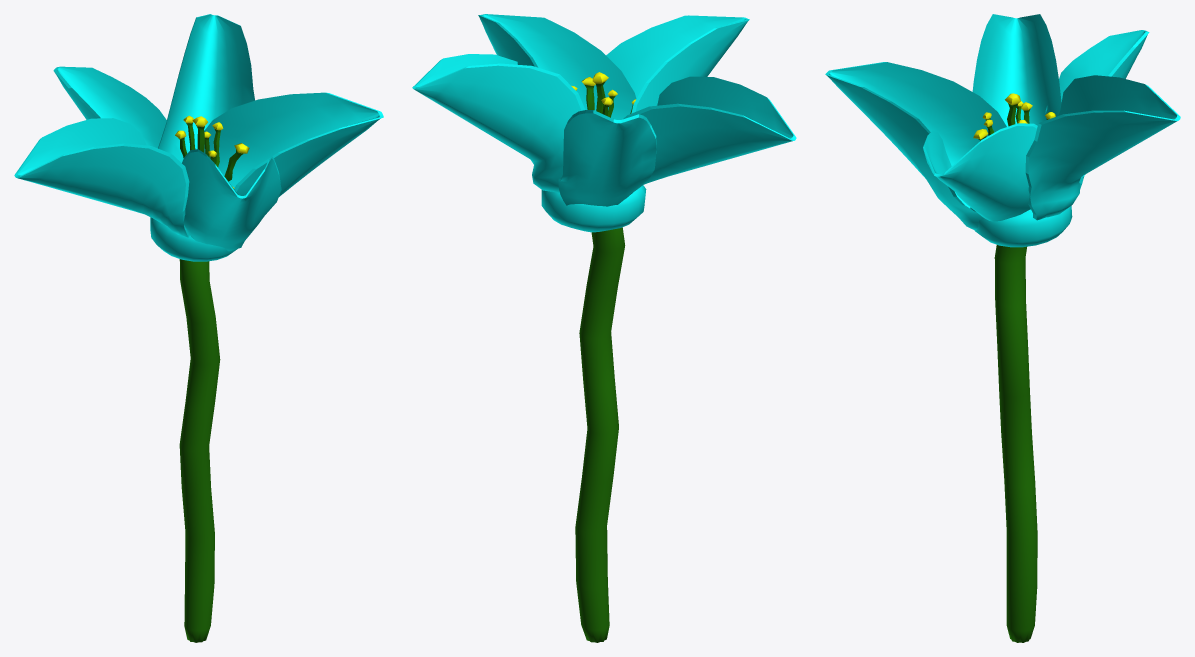
The model's file is Flower2.obj.
The picture shows the model from 3 angles, left to right: view 1: azimuth 30°, elevation 25°; view 2: azimuth 150°, elevation 25°; view 3: azimuth 270°, elevation 25°; orthographic projection. The views are drawn at different scales.
Visible parts, largest first — view 1: pCylinder40; view 2: pCylinder40; view 3: pCylinder40.
Part boxes in pixels (x1,y1,x2,y2): pCylinder40: (14,14,383,642); pCylinder40: (412,14,796,642); pCylinder40: (825,14,1180,642).
Size of the model in its own units: 1.43 by 2.32 by 1.28.
